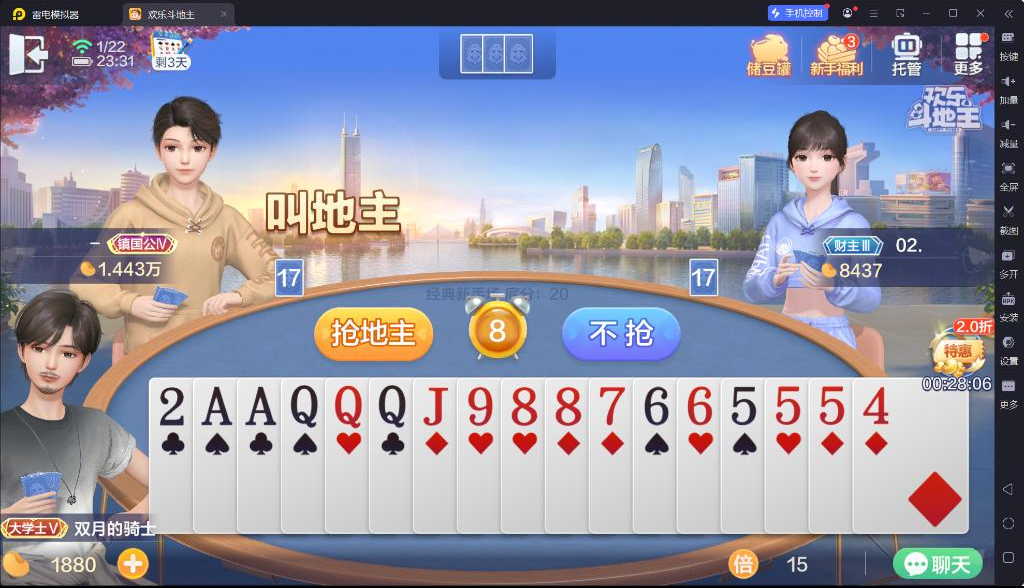A: (199, 381, 235, 427), (243, 381, 277, 428)
J: (419, 383, 449, 428)
Q: (286, 382, 320, 429), (374, 382, 408, 429), (332, 383, 365, 429)
eight: (552, 382, 584, 428), (509, 382, 540, 428)
five: (726, 383, 760, 428), (770, 383, 804, 427), (814, 383, 847, 427)
four: (860, 384, 892, 426)
nine: (462, 384, 494, 428)
seven: (596, 383, 627, 427)
six: (682, 383, 716, 426), (637, 384, 671, 427)
two: (157, 383, 188, 429)
